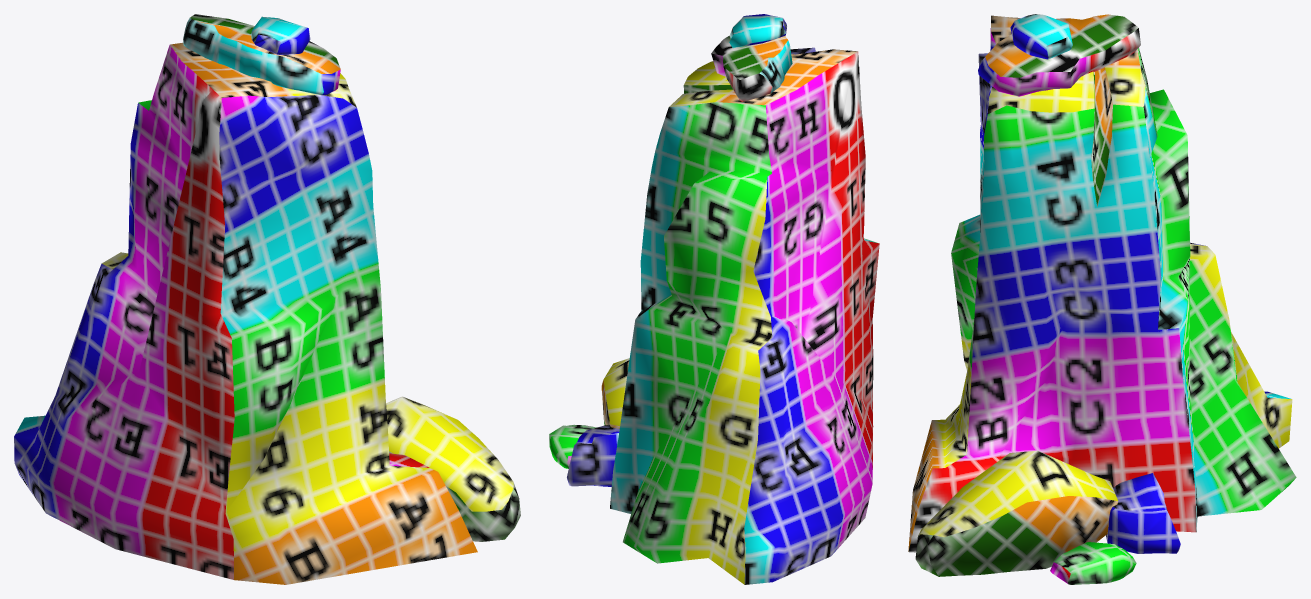
The model's file is Stone_07.FBX.
The picture shows the model from 3 angles, left to right: view 1: azimuth 30°, elevation 25°; view 2: azimuth 150°, elevation 25°; view 3: azimuth 270°, elevation 25°; orthographic projection. The views are drawn at different scales.
Parts seen in each view (by area): view 1: Stone_07_LOD0; view 2: Stone_07_LOD0; view 3: Stone_07_LOD0.
Part boxes in pixels (x1,y1,x2,y2): Stone_07_LOD0: [14, 14, 520, 584]; Stone_07_LOD0: [549, 14, 879, 584]; Stone_07_LOD0: [908, 14, 1296, 584].
Size of what is drawn, in the model's own units: 232 by 306 by 229.
1 material, 1 textured.
